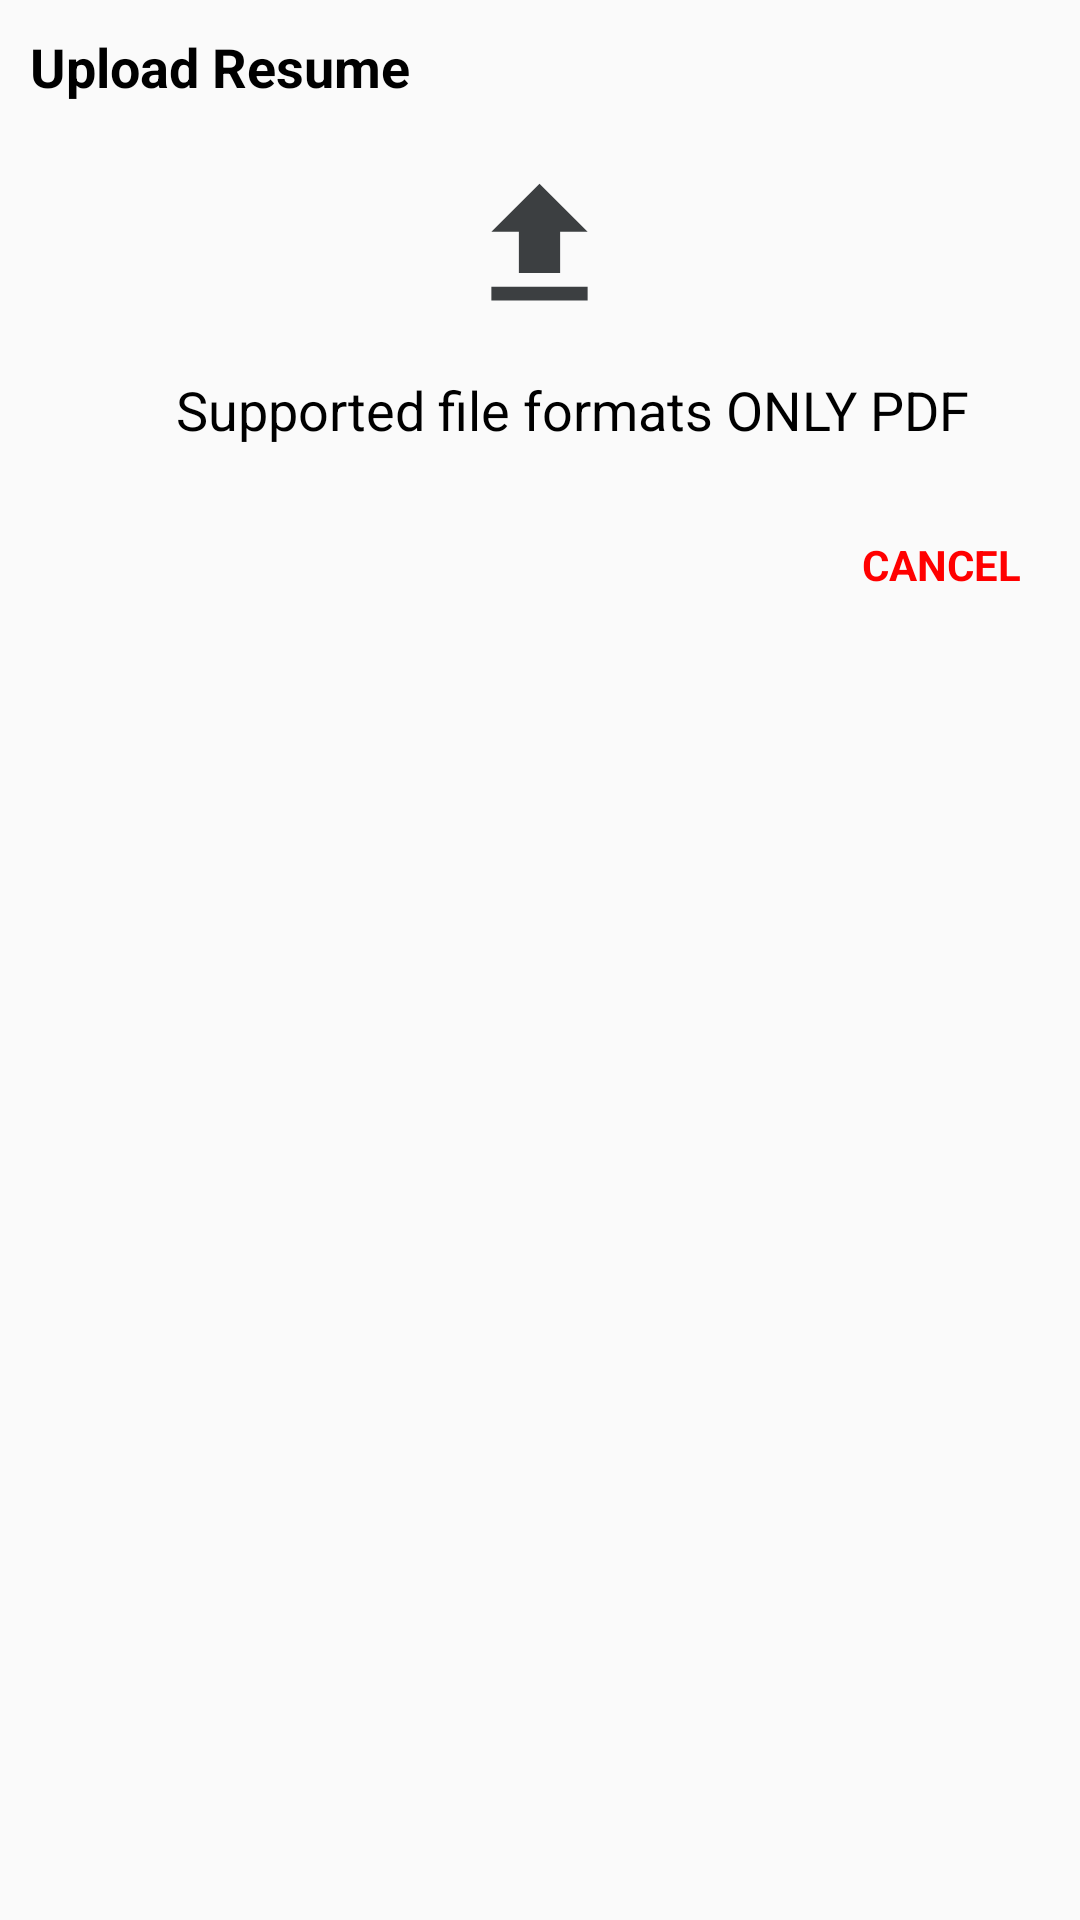

Point at icon controls on the screen. Image size 1080 × 1920, points as [x,y].
file upload: [539,242]
